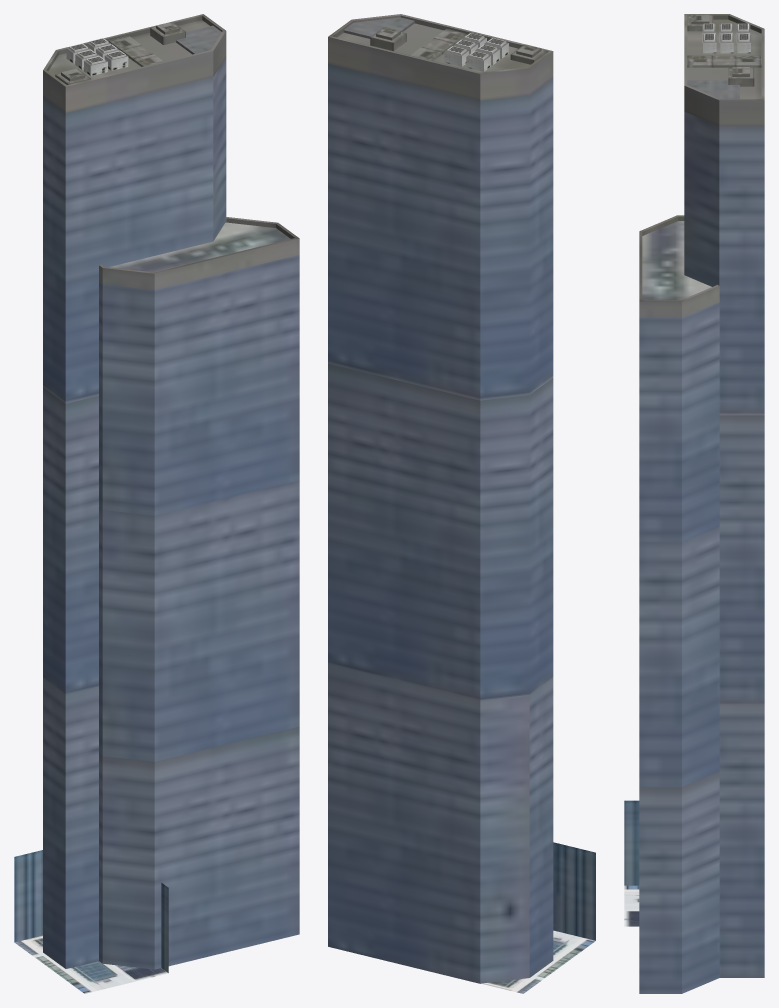
The picture shows the model from 3 angles, left to right: view 1: azimuth 30°, elevation 25°; view 2: azimuth 150°, elevation 25°; view 3: azimuth 270°, elevation 25°; orthographic projection. The views are drawn at different scales.
Bounding box in the file's own units: 0.4347 × 1.66 × 0.2388.
Materials: 1 (1 with a texture image).
